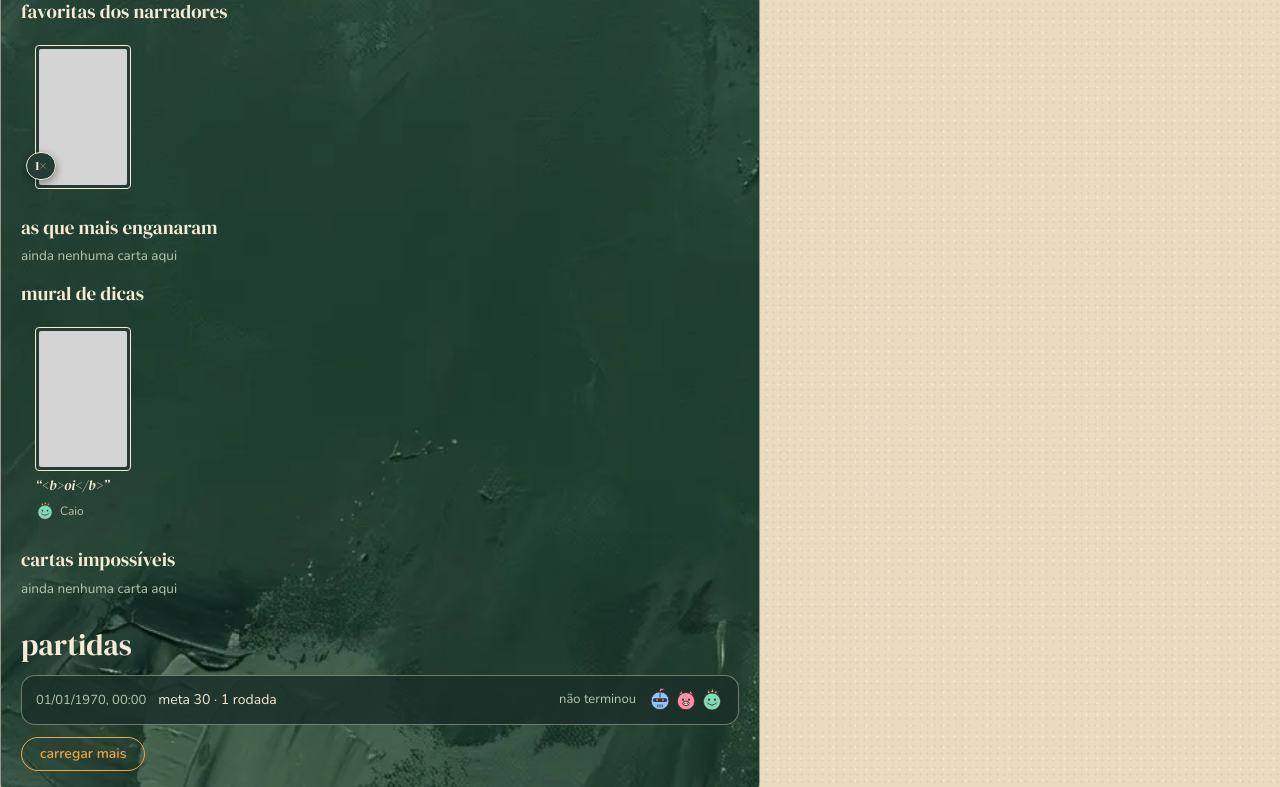
it: aba histórico do Diquisti › carregar mais traz as partidas seguintes e mantém as estatísticas da primeira página
(page scrolled)
Click the button "carregar mais" at {"x": 83, "y": 754}, box x1=21 y1=737 x2=146 y2=771
(page scrolled)
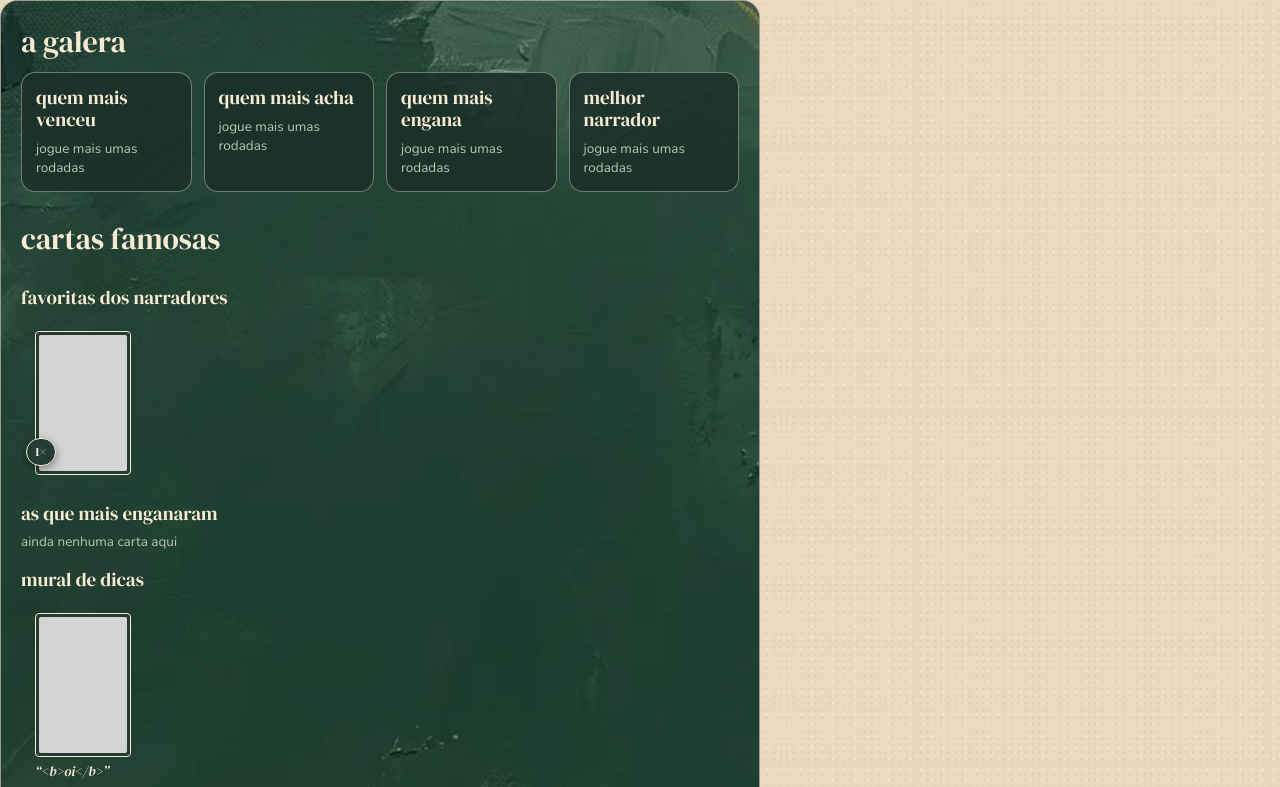
Expected: the heading "a galera" is shown, x1=21 y1=21 x2=126 y2=62
Expected: the button "carregar mais" is gone
